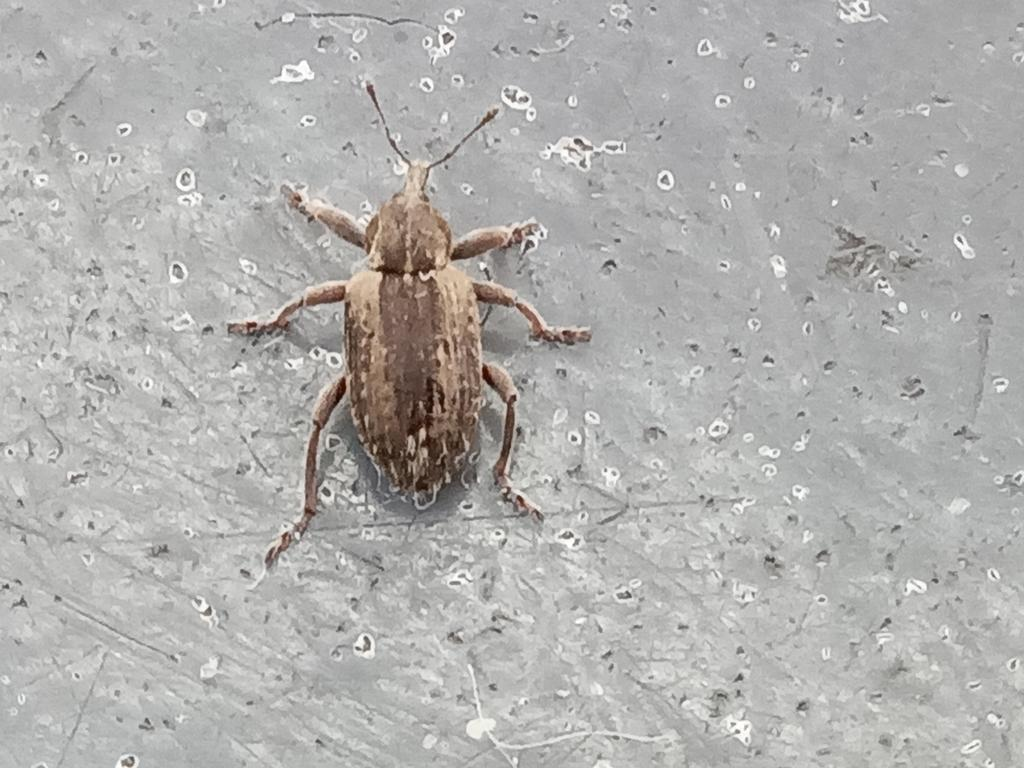weevils: (159, 36, 678, 616)
